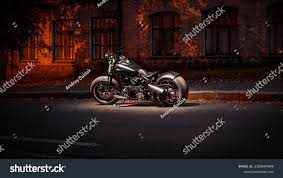motorcycle: (87, 50, 190, 106)
